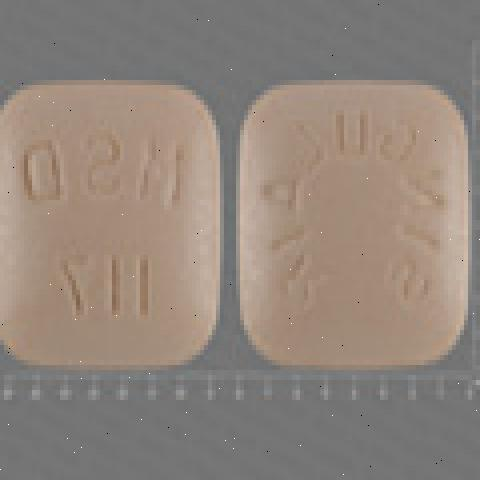Pill: (226, 68, 476, 388), (0, 67, 233, 386)
